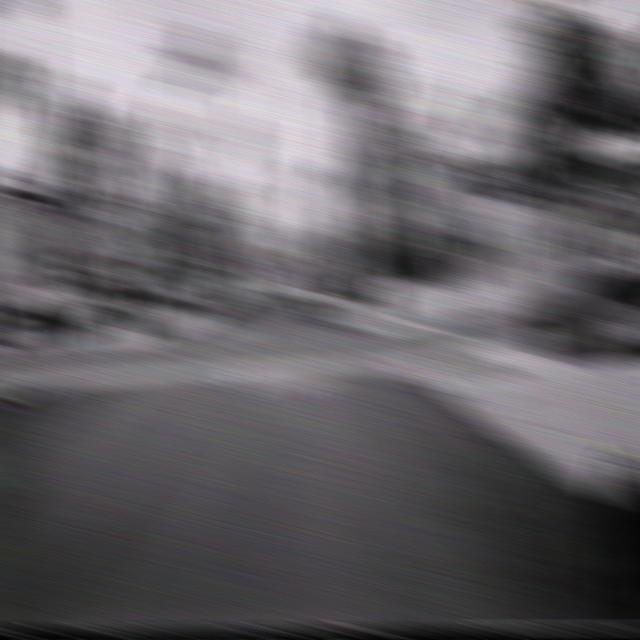stop_sign: (421, 168, 466, 224)
